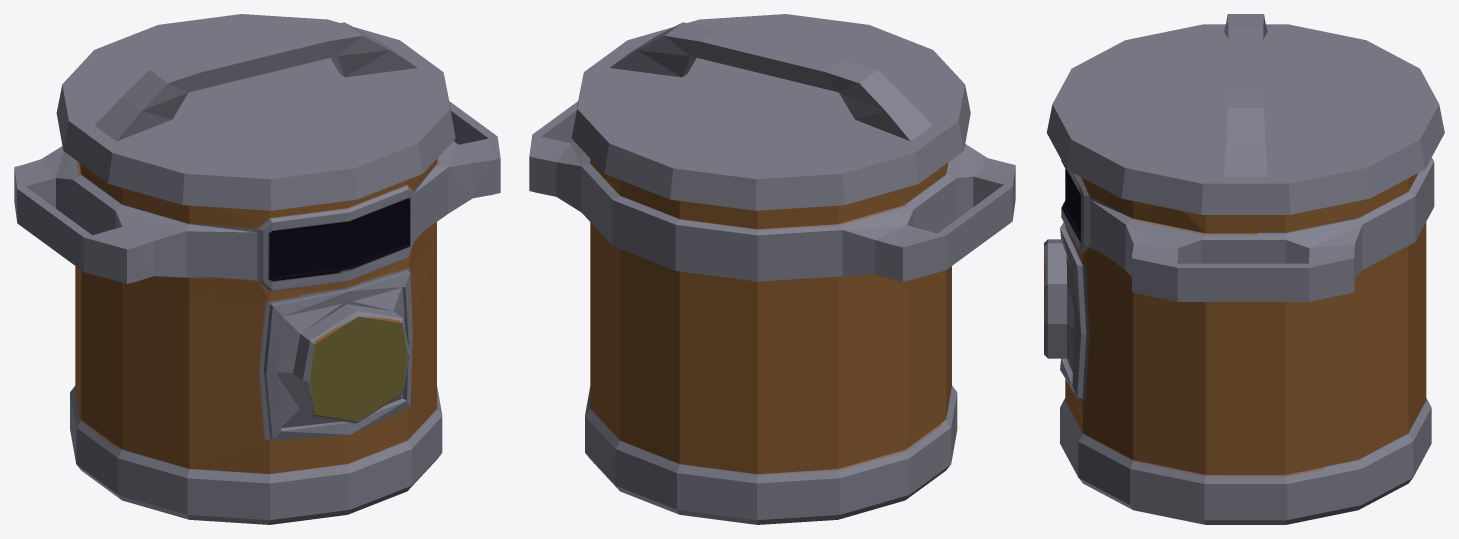
Rendered from Panela.fbx.
The picture shows the model from 3 angles, left to right: view 1: azimuth 30°, elevation 25°; view 2: azimuth 150°, elevation 25°; view 3: azimuth 270°, elevation 25°; orthographic projection.
Visible parts, largest first — view 1: Panela, Tampa; view 2: Panela, Tampa; view 3: Panela, Tampa.
Boxes of the visible parts, left/top/right/bottom form: Panela: left=14, top=101, right=500, bottom=524; Tampa: left=56, top=14, right=455, bottom=210; Panela: left=529, top=101, right=1015, bottom=524; Tampa: left=571, top=14, right=970, bottom=210; Panela: left=1044, top=157, right=1434, bottom=524; Tampa: left=1046, top=14, right=1444, bottom=214.
Size of the model in its own units: 261 by 240 by 222.
